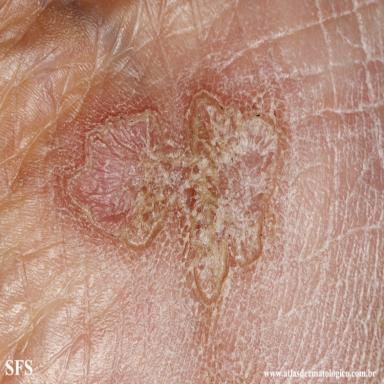Porokeratosis: (66, 91, 278, 304)
